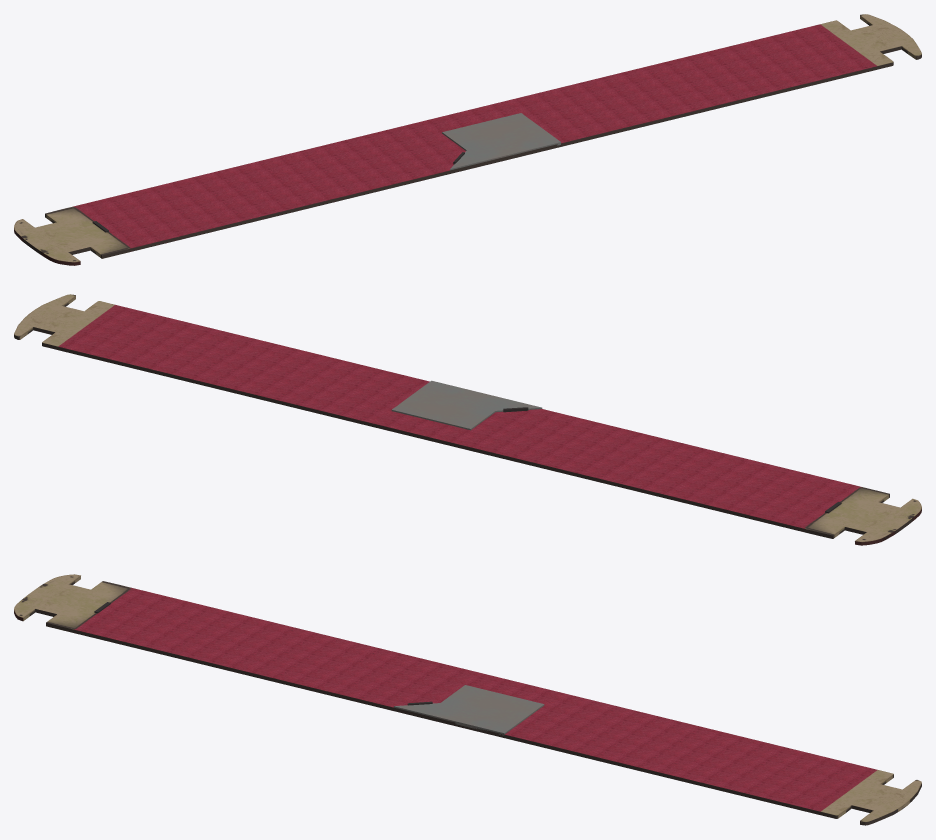
Rendered from SM_Floor.fbx.
3 renders of one model, top to bottom at view 1: azimuth 30°, elevation 25°; view 2: azimuth 150°, elevation 25°; view 3: azimuth 330°, elevation 25°, orthographic.
Parts seen in each view (by area): view 1: SM_Floor; view 2: SM_Floor; view 3: SM_Floor.
Part boxes in pixels (left/top/right/bottom): SM_Floor: left=14, top=14, right=921, bottom=265; SM_Floor: left=14, top=294, right=921, bottom=545; SM_Floor: left=14, top=574, right=921, bottom=825.
Size of the model in its own units: 2938 by 338 by 19.74.
3 materials, 3 textured.
